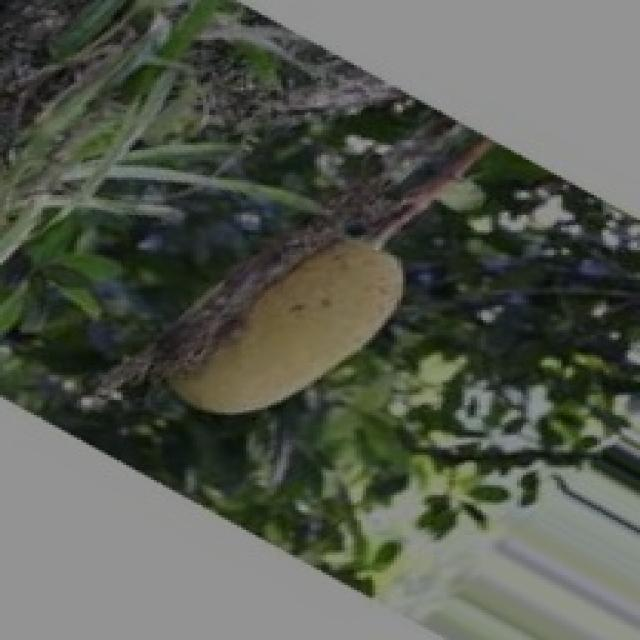Fruit: (132, 202, 443, 452)
